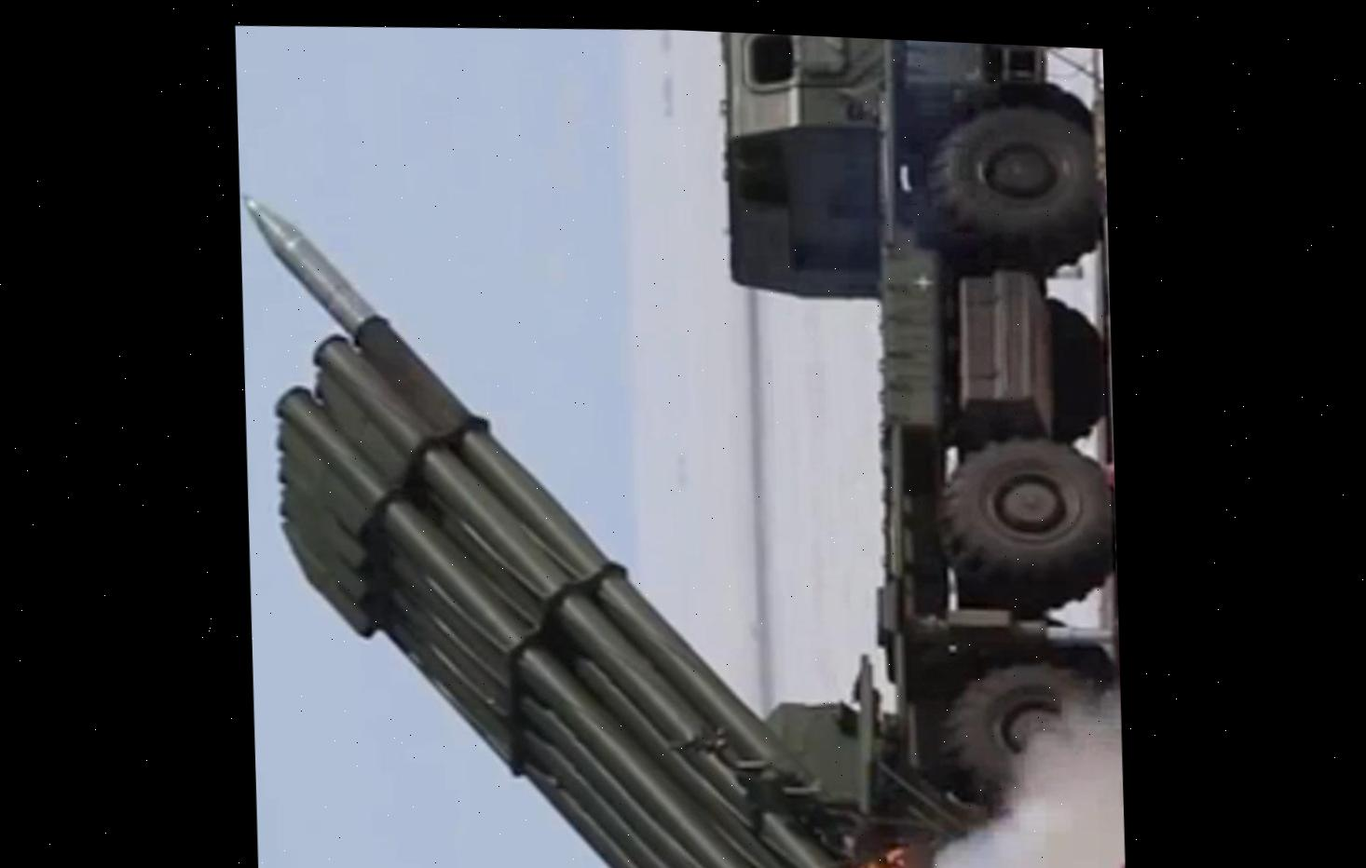rszo: (227, 10, 1132, 868)
